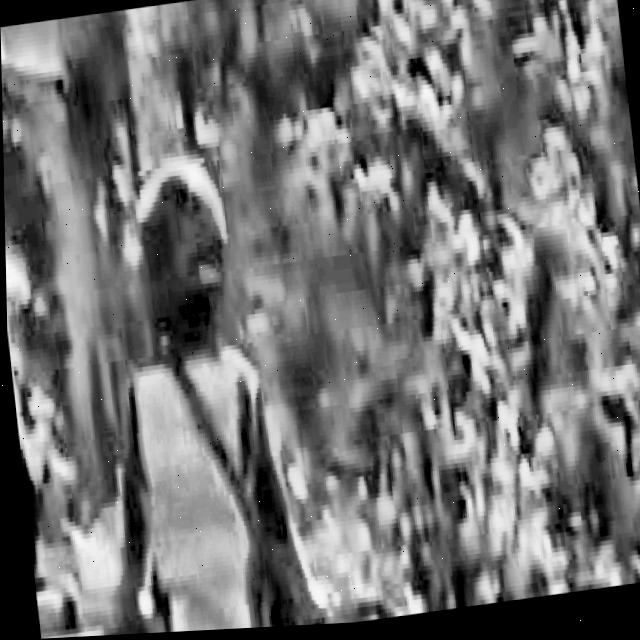Lori: (3, 131, 353, 640)
